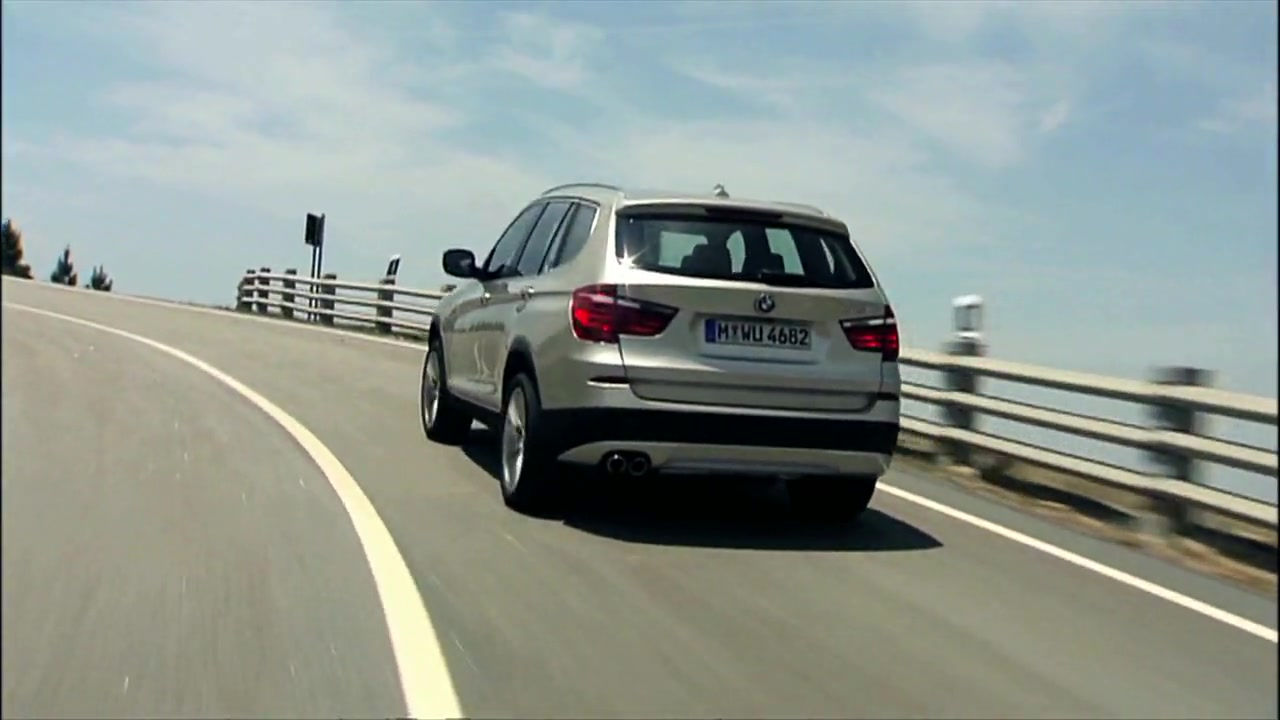car: (415, 175, 909, 532)
